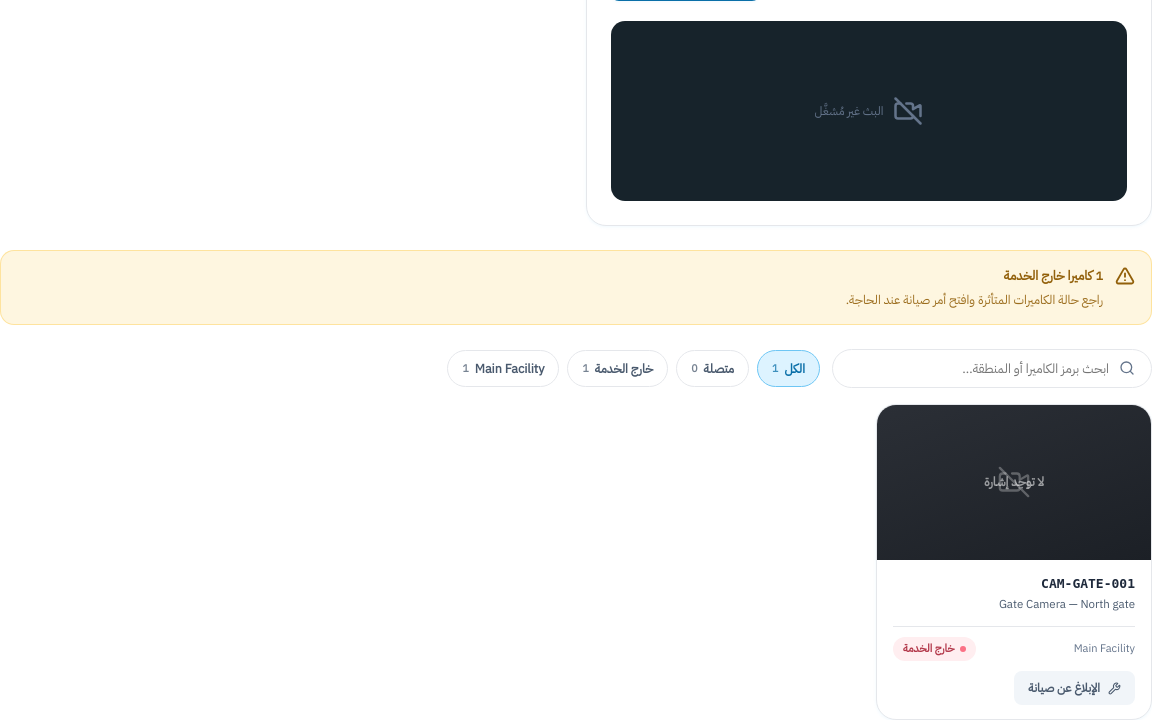
Scenario: CameraMonitoringPage maintenance reporting › shows the server error when the report fails
(page scrolled)
Click the button "الإبلاغ عن صيانة" at (1075, 688), box 1014,671 -> 1135,705
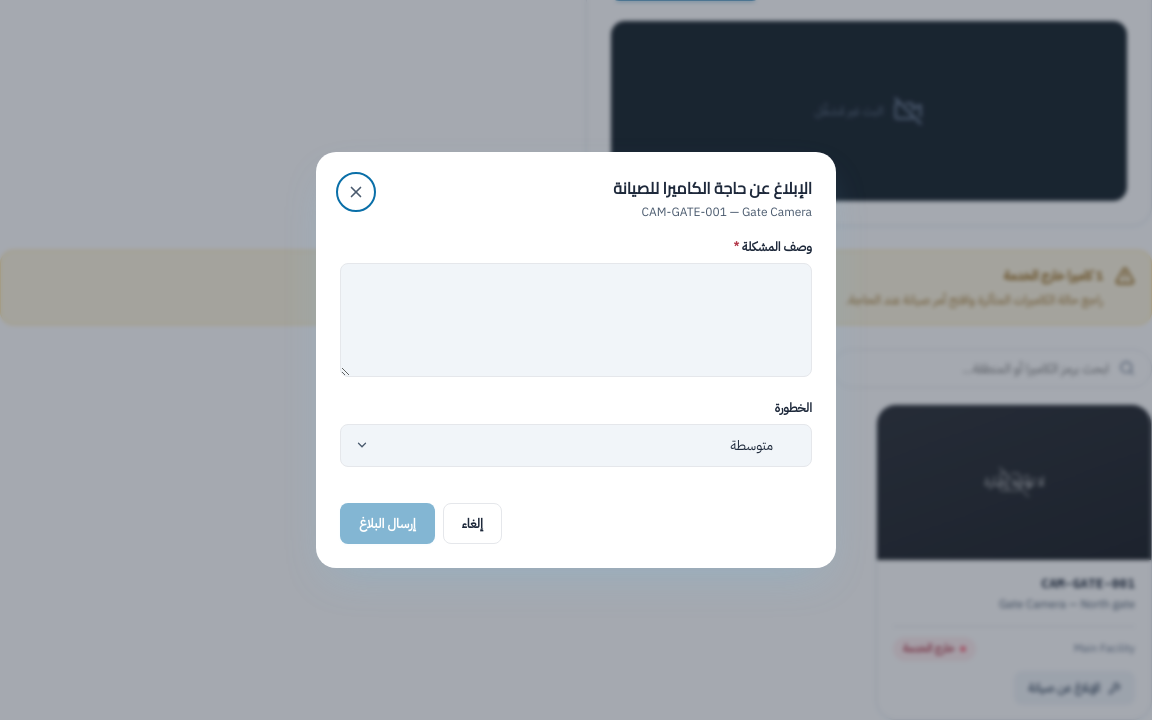
Type "Broken" into the text box labelled "وصف المشكلة*" at (576, 320), box 340,263 -> 812,377
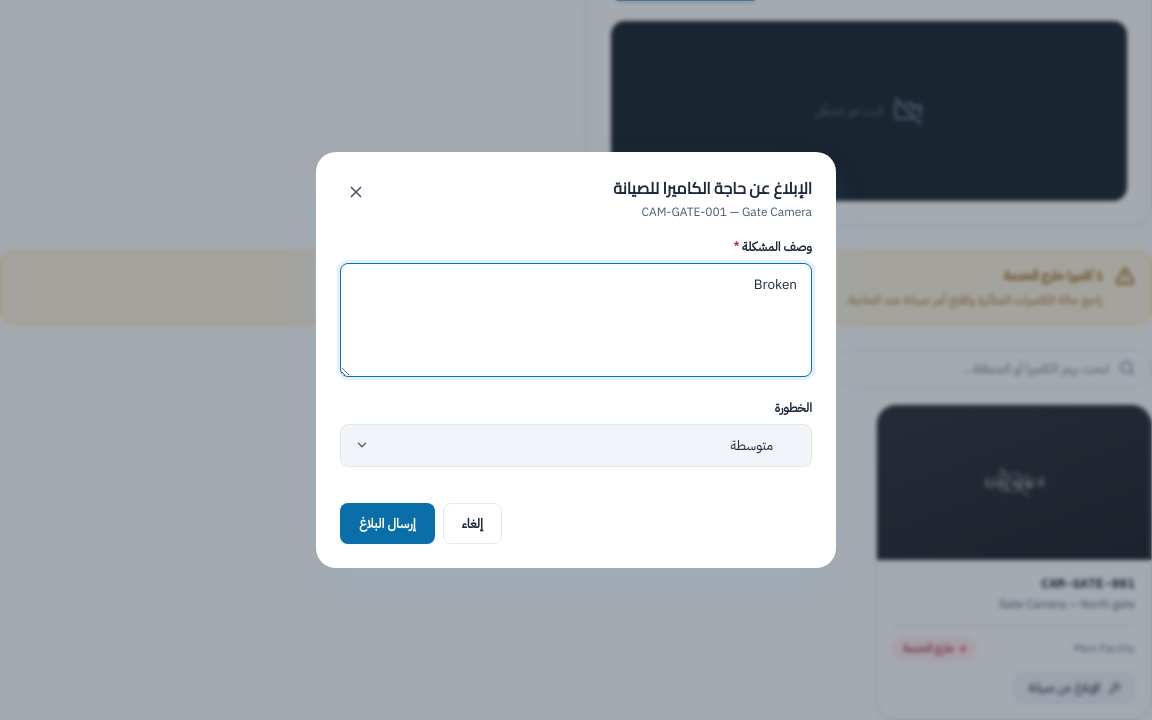
Click the button "إرسال البلاغ" at (387, 523), box 340,503 -> 435,544
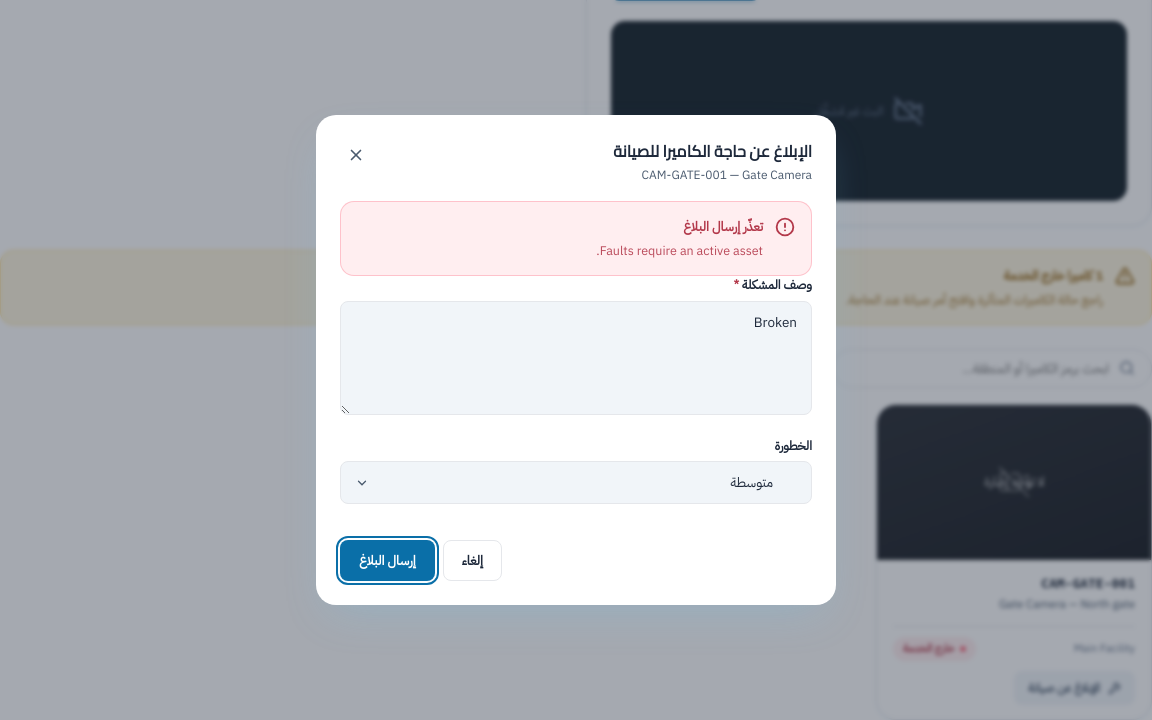
Now the text "Faults require an active asset." is shown, box 596,241 -> 763,260
